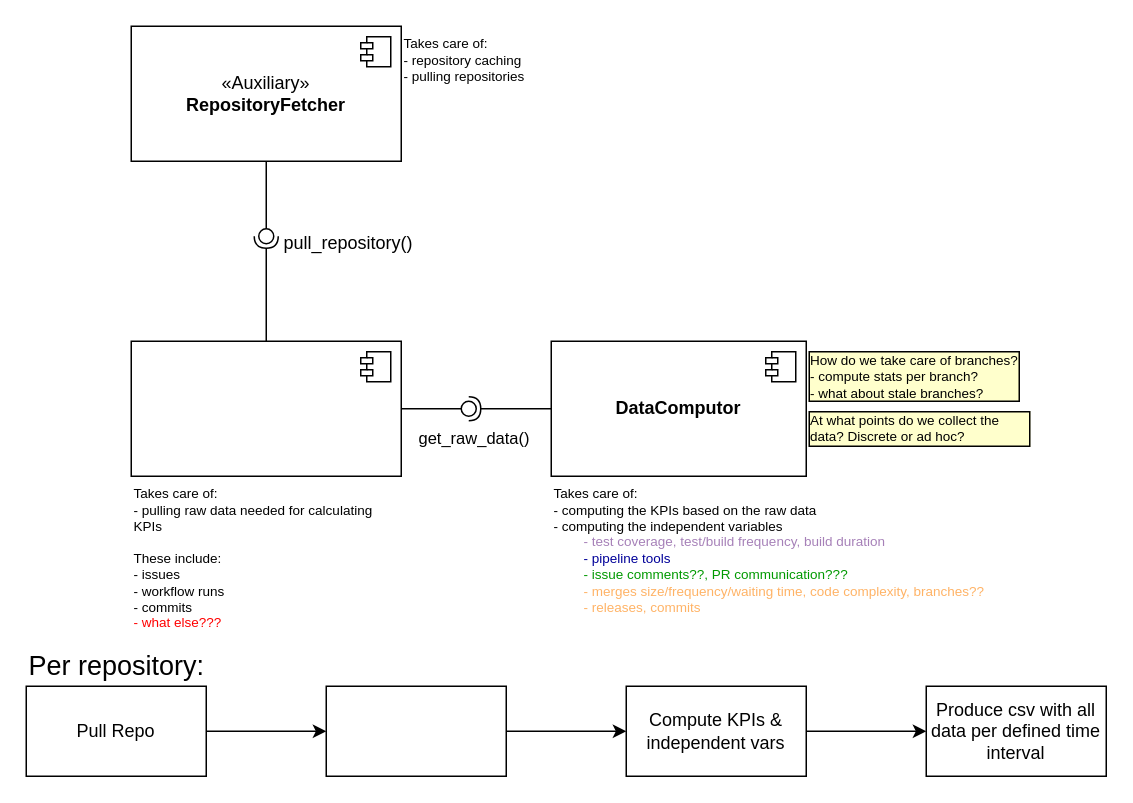
Some shapes in this 1133 by 803 pixel diagram are drawn without their labels. Each missing label, with the box of its shape:
DataExtractor: (130, 340, 401, 476)
Get all raw data (issues, commits, runs, cov etc.): (325, 685, 506, 776)
